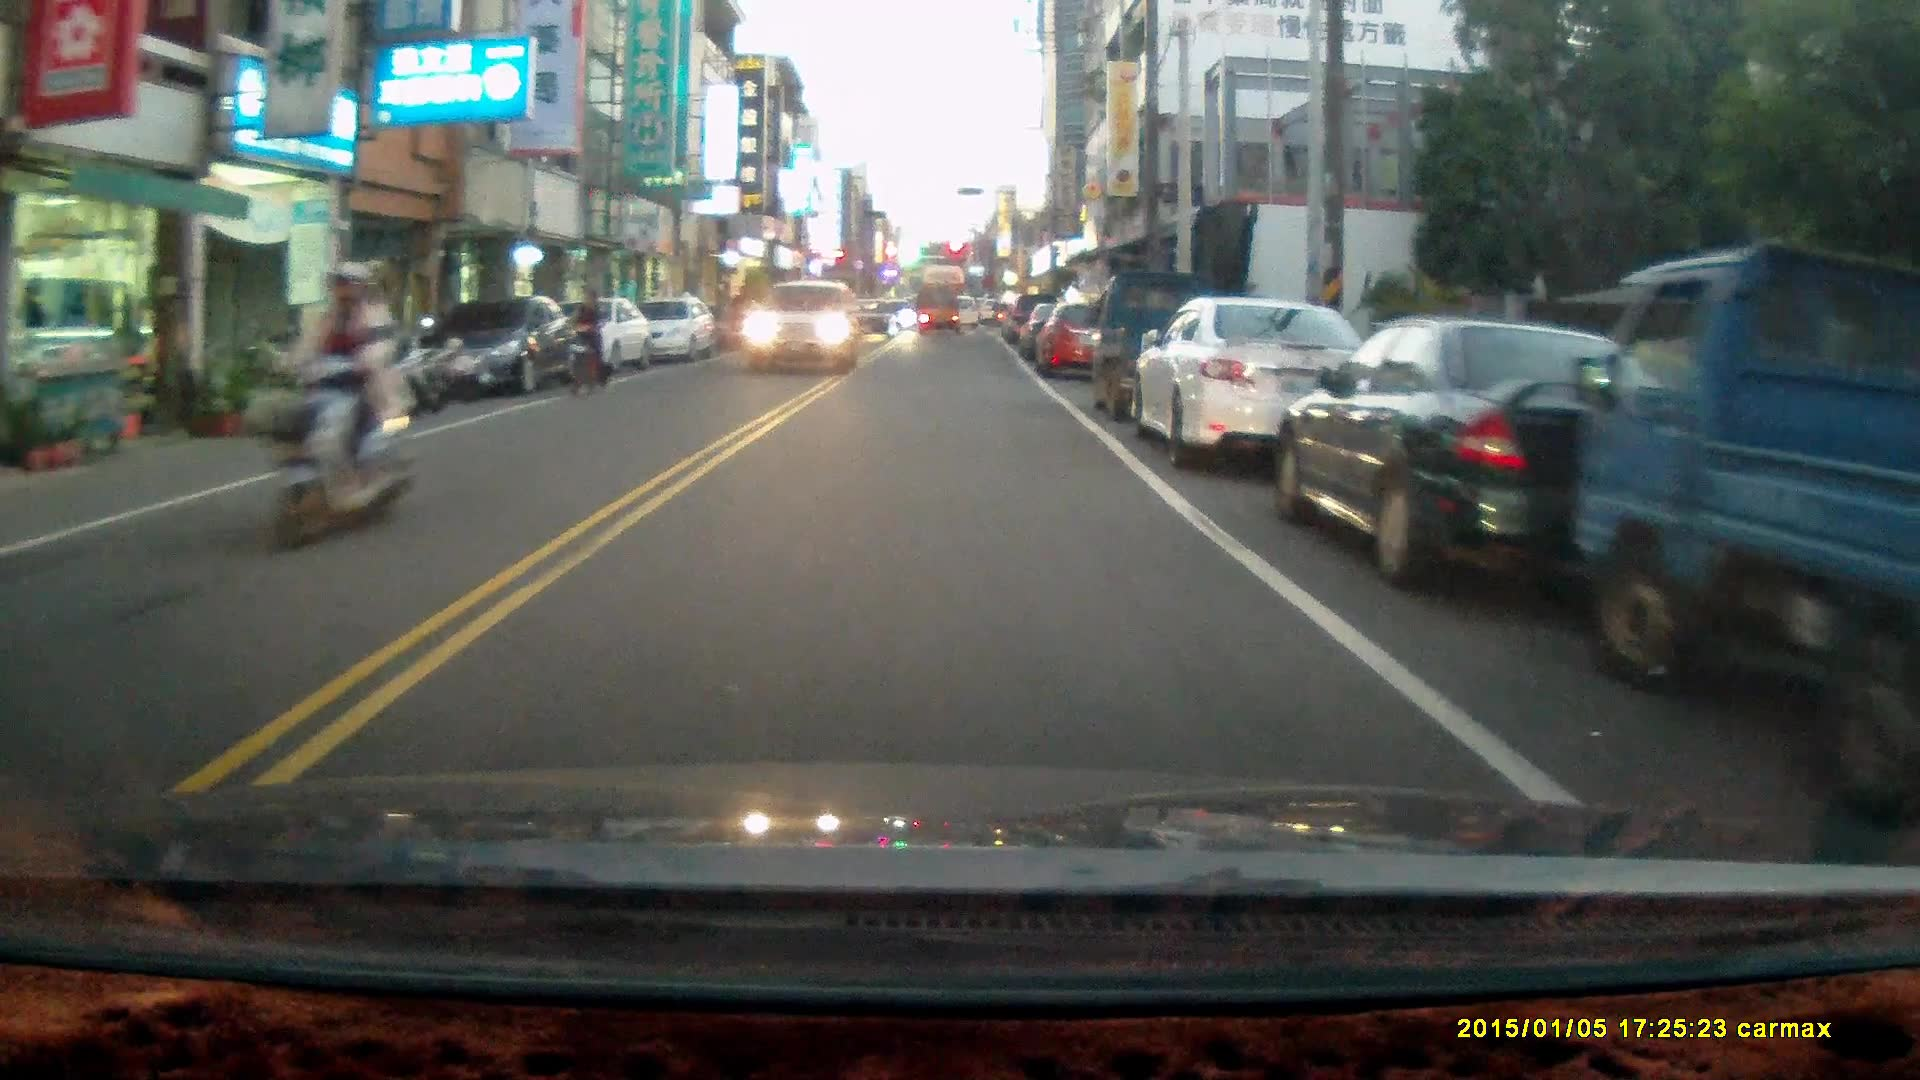rider: (269, 257, 422, 550), (562, 287, 606, 396)
vehicle: (1571, 242, 1920, 781), (1270, 315, 1732, 593), (1130, 294, 1381, 470), (1088, 263, 1257, 435), (433, 299, 581, 400), (742, 279, 861, 371), (1032, 303, 1130, 381), (625, 296, 719, 364), (842, 297, 902, 345), (913, 283, 961, 337)
